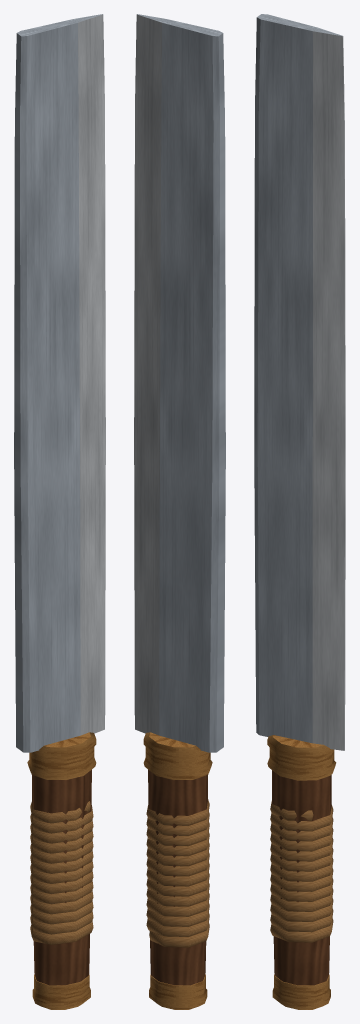
The model's file is thai-sword-04.glb.
3 views of the same model, side by side, from view 1: azimuth 30°, elevation 25°; view 2: azimuth 150°, elevation 25°; view 3: azimuth 330°, elevation 25° (orthographic).
Visible parts, largest first — view 1: Blade, Handle Wrap, Handle, Metal Fittings; view 2: Blade, Handle Wrap, Handle, Metal Fittings; view 3: Blade, Handle Wrap, Handle, Metal Fittings.
Part boxes in pixels (box(x1,y1,x2,y2)): Blade: box(14, 14, 105, 752); Handle Wrap: box(30, 801, 93, 944); Handle: box(31, 769, 91, 985); Metal Fittings: box(27, 732, 96, 1009); Blade: box(134, 14, 225, 752); Handle Wrap: box(146, 799, 209, 947); Handle: box(148, 769, 208, 985); Metal Fittings: box(143, 732, 212, 1009); Blade: box(254, 14, 345, 750); Handle Wrap: box(270, 801, 333, 942); Handle: box(272, 770, 331, 985); Metal Fittings: box(267, 735, 336, 1009).
Bounding box in the file's own units: 0.109 × 1.15 × 0.0627.
5 materials, 5 textured.
